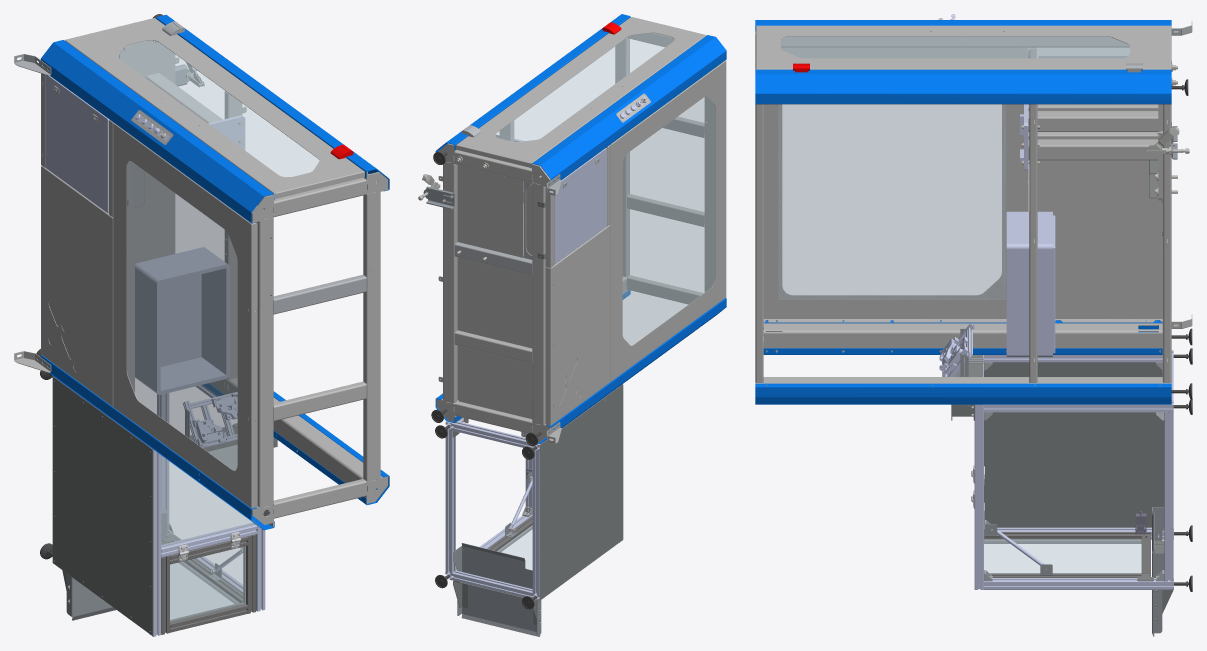
File: imm-cell-boxes.glb
The picture shows the model from 3 angles, left to right: view 1: azimuth 30°, elevation 25°; view 2: azimuth 150°, elevation 25°; view 3: azimuth 270°, elevation 25°; orthographic projection. The views are drawn at different scales.
Parts seen in each view (by area): view 1: 100123_10_Flex7IMM_ogrodje_plocevina_sestav_mesh, 17_23_365_Zascita_predalnika_mesh, TBP_KLT_mesh, 17_23_950_Lezisce_mesh, imm-pedestal-base_mesh, imm-pedestal-column_mesh, imm-pedestal-top_mesh; view 2: 100123_10_Flex7IMM_ogrodje_plocevina_sestav_mesh, 17_23_365_Zascita_predalnika_mesh, Sidranje_mesh; view 3: 100123_10_Flex7IMM_ogrodje_plocevina_sestav_mesh, 17_23_365_Zascita_predalnika_mesh, imm-pedestal-column_mesh, TBP_KLT_mesh, 17_23_950_Lezisce_mesh, Sidranje_mesh.
Boxes of the visible parts, left/top/right/bottom form: 100123_10_Flex7IMM_ogrodje_plocevina_sestav_mesh: left=14, top=14, right=389, bottom=530; 17_23_365_Zascita_predalnika_mesh: left=40, top=370, right=277, bottom=636; TBP_KLT_mesh: left=135, top=247, right=229, bottom=394; 17_23_950_Lezisce_mesh: left=183, top=392, right=237, bottom=451; imm-pedestal-base_mesh: left=119, top=40, right=161, bottom=77; imm-pedestal-column_mesh: left=145, top=73, right=222, bottom=122; imm-pedestal-top_mesh: left=198, top=115, right=245, bottom=149; 100123_10_Flex7IMM_ogrodje_plocevina_sestav_mesh: left=431, top=14, right=726, bottom=445; 17_23_365_Zascita_predalnika_mesh: left=435, top=384, right=623, bottom=636; Sidranje_mesh: left=418, top=174, right=454, bottom=209; 100123_10_Flex7IMM_ogrodje_plocevina_sestav_mesh: left=755, top=14, right=1192, bottom=404; 17_23_365_Zascita_predalnika_mesh: left=951, top=348, right=1192, bottom=636; imm-pedestal-column_mesh: left=1028, top=104, right=1158, bottom=160; TBP_KLT_mesh: left=1006, top=211, right=1055, bottom=357; 17_23_950_Lezisce_mesh: left=939, top=323, right=983, bottom=376; Sidranje_mesh: left=1145, top=126, right=1189, bottom=159.
Bounding box in the file's own units: 920 × 3039 × 2101.
